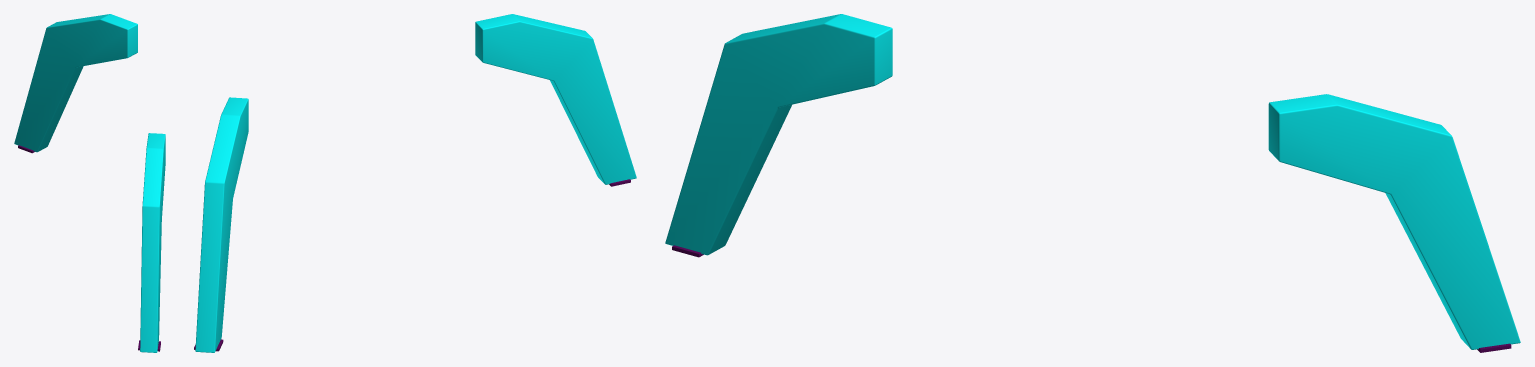
The model's file is levante_leg_corner_left.gltf.
3 renders of one model, left to right at view 1: azimuth 30°, elevation 25°; view 2: azimuth 150°, elevation 25°; view 3: azimuth 270°, elevation 25°, orthographic. The views are drawn at different scales.
Parts seen in each view (by area): view 1: leg_corner_left; view 2: leg_corner_left; view 3: leg_corner_left.
Part boxes in pixels (bbox=[...]): leg_corner_left: bbox=[14, 14, 165, 352]; leg_corner_left: bbox=[194, 14, 636, 352]; leg_corner_left: bbox=[665, 14, 1520, 352].
Size of the model in its own units: 0.2727 by 0.2361 by 0.6856.
